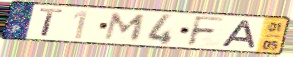1: (72, 10, 90, 40)
4: (147, 12, 175, 46)
A: (220, 19, 258, 50)
F: (185, 15, 227, 48)
M: (102, 12, 149, 42)
T: (39, 7, 66, 38)
